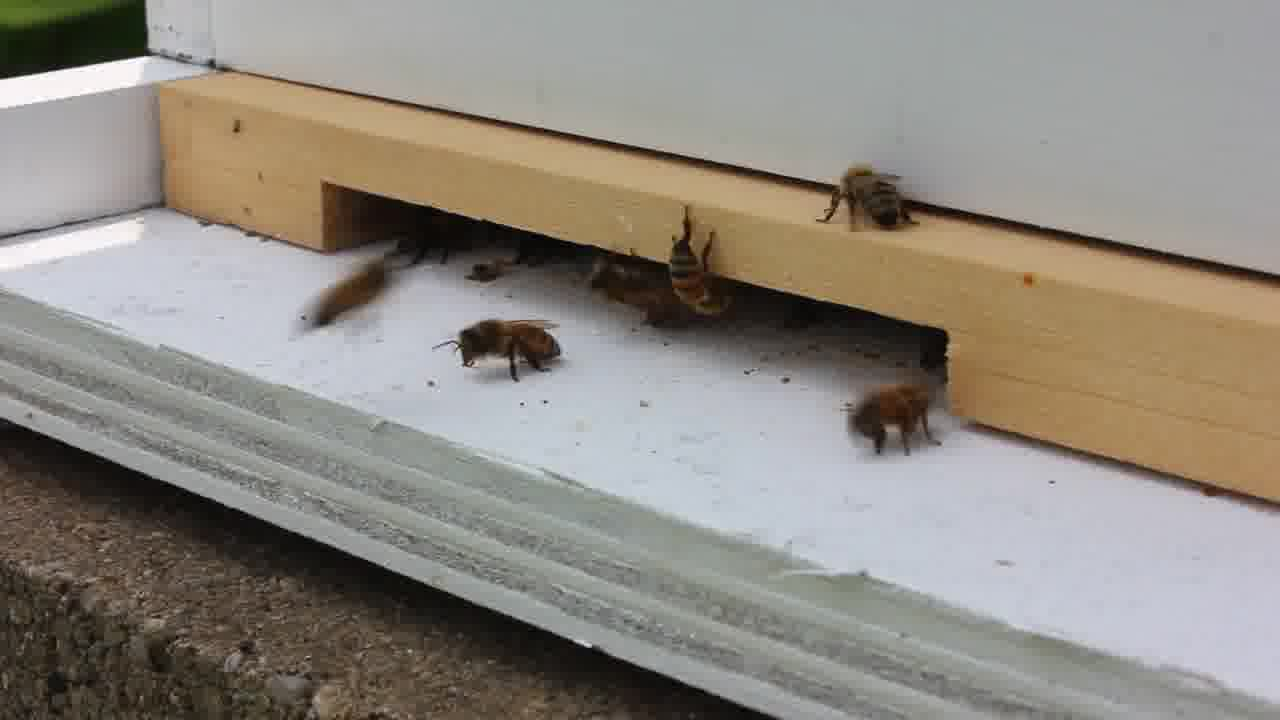pollen: (855, 381, 943, 456)
